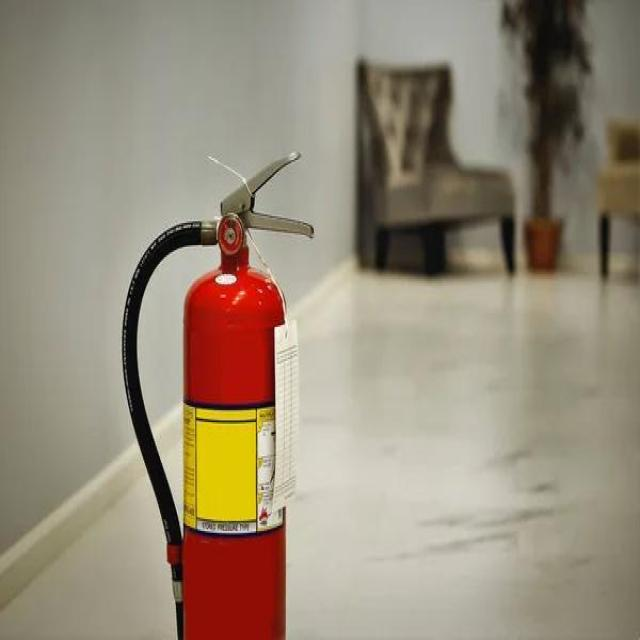fire_extinguisher: (115, 142, 317, 638)
